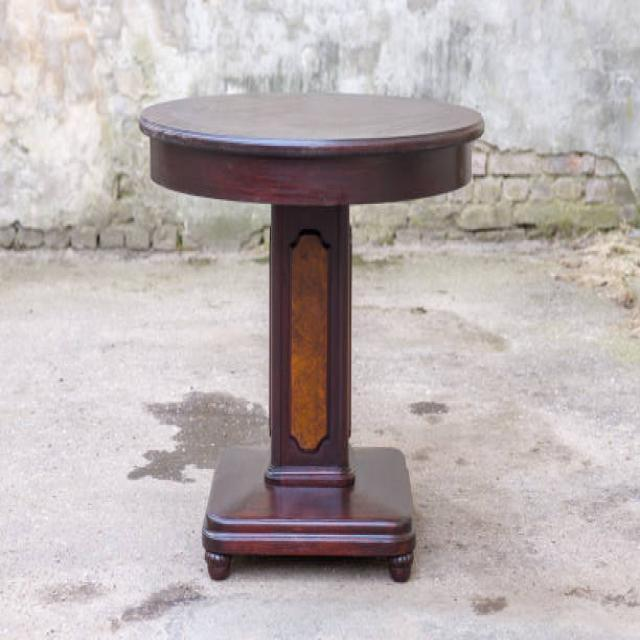table: (138, 89, 485, 582)
